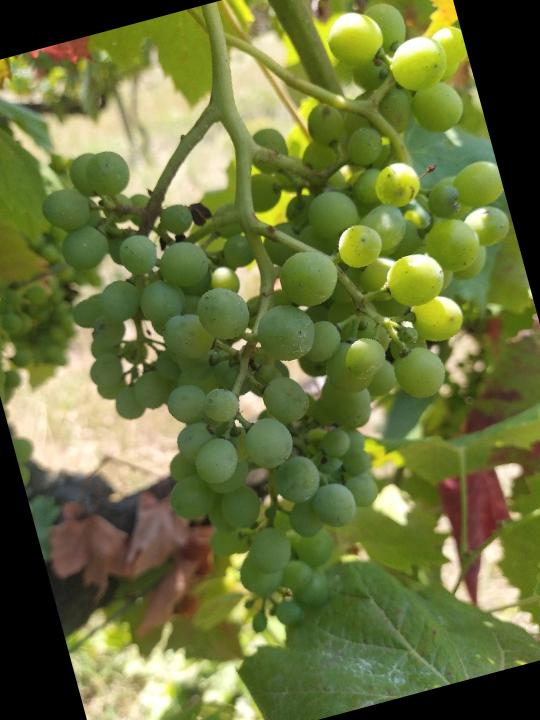grape: (7, 0, 540, 661)
